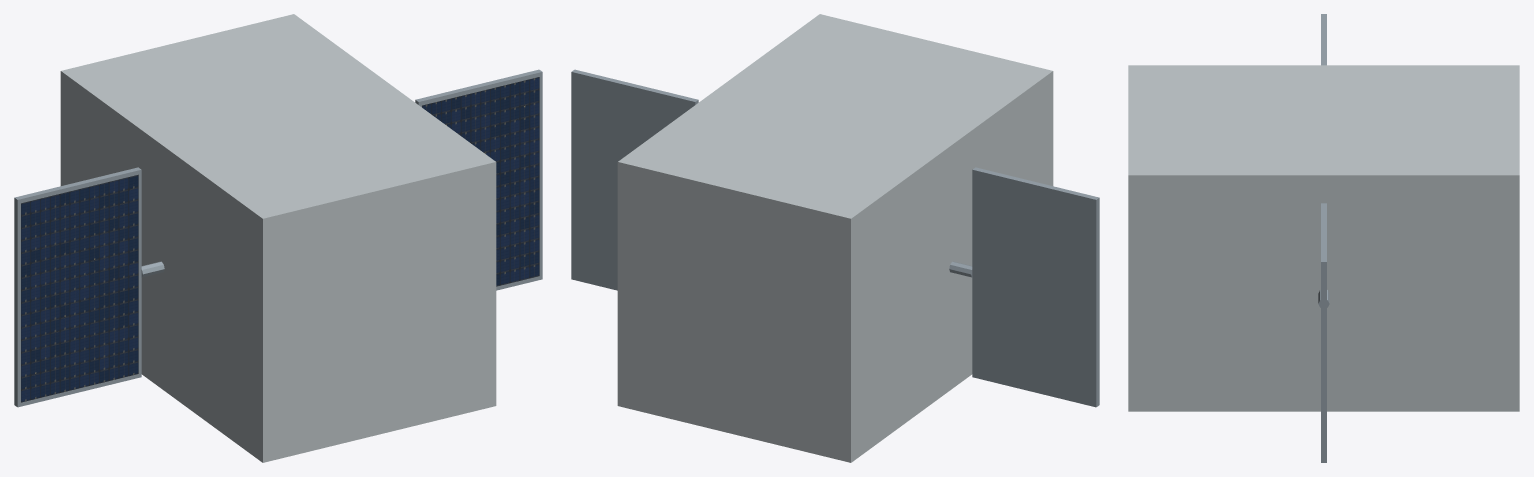
Rendered from ref-stsat-39068.glb.
3 renders of one model, left to right at view 1: azimuth 30°, elevation 25°; view 2: azimuth 150°, elevation 25°; view 3: azimuth 270°, elevation 25°, orthographic. The views are drawn at different scales.
Visible parts, largest first — view 1: Spacecraft body, Photovoltaic laminates (×2), Array frame (×2); view 2: Spacecraft body, Array frame (×2); view 3: Spacecraft body, Array frame.
Part boxes in pixels (x1=…): Spacecraft body: x1=60, y1=14, x2=496, y2=462; Photovoltaic laminates (×2): x1=21, y1=77, x2=539, y2=402; Array frame (×2): x1=14, y1=69, x2=542, y2=407; Spacecraft body: x1=617, y1=14, x2=1053, y2=462; Array frame (×2): x1=571, y1=69, x2=1099, y2=407; Spacecraft body: x1=1128, y1=65, x2=1519, y2=411; Array frame: x1=1321, y1=203, x2=1326, y2=462.
Bounding box in the file's own units: 1.8 × 0.8 × 1.2.
3 materials, 1 textured.
